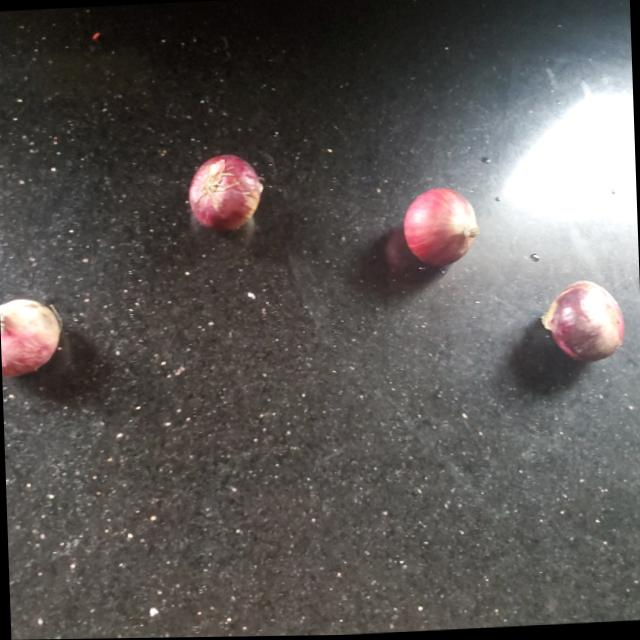onion: (538, 282, 625, 367), (186, 147, 266, 229), (401, 188, 478, 269), (0, 293, 61, 377)
